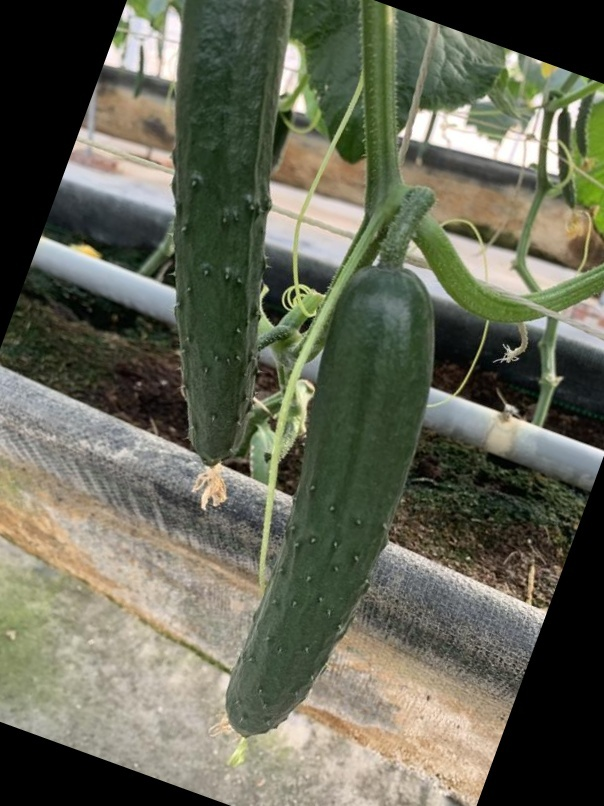mature: (214, 263, 440, 736), (175, 4, 296, 468)
